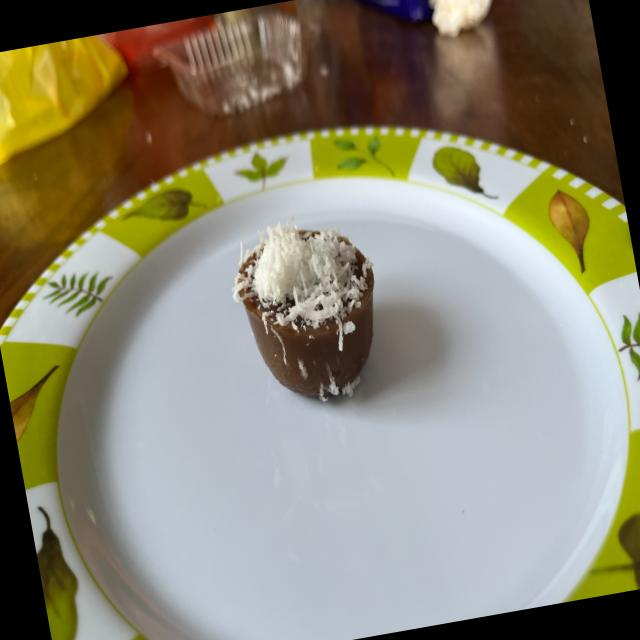Kuih lompang: (232, 221, 374, 401)
